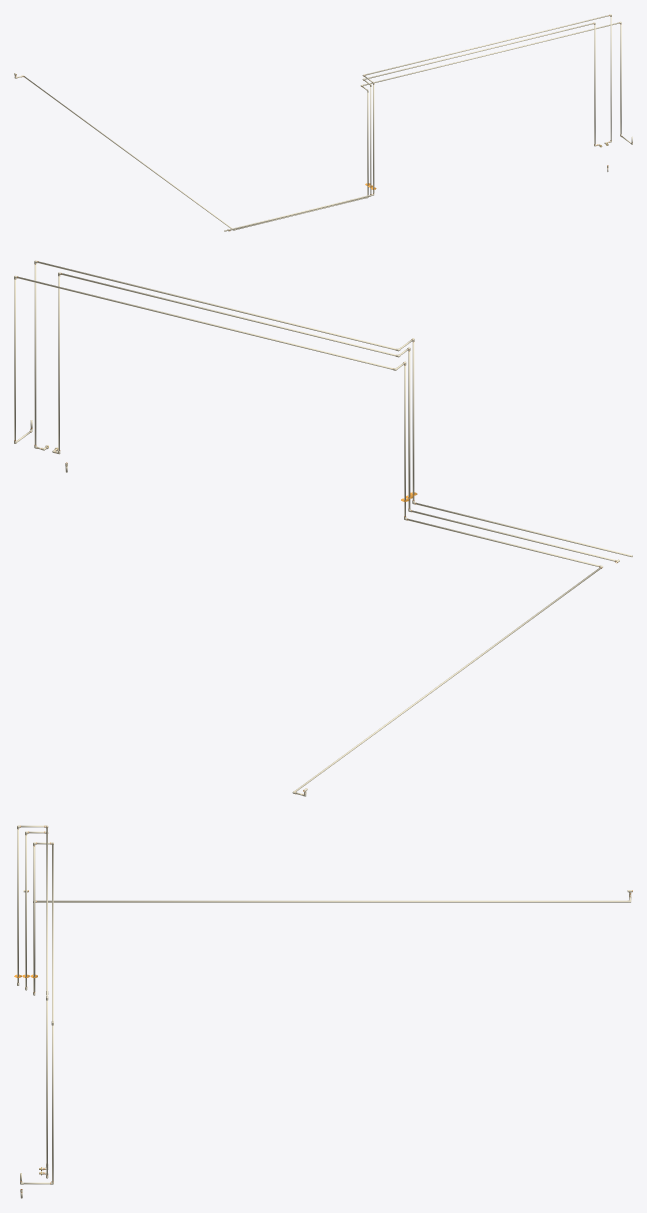
File: pipes_supply__water_heater-garage_tankless+garage_tankless_noncondensing_and_plumbing-cpvc.glb
3 renders of one model, top to bottom at view 1: azimuth 30°, elevation 25°; view 2: azimuth 150°, elevation 25°; view 3: azimuth 270°, elevation 25°, orthographic. The views are drawn at different scales.
Visible parts, largest first — view 1: pipe_supply_recirc_return, pipe_supply_cold_wh_tankless, pipe_supply_hot_wh_tankless; view 2: pipe_supply_recirc_return, pipe_supply_cold_wh_tankless, pipe_supply_hot_wh_tankless; view 3: pipe_supply_recirc_return, pipe_supply_cold_wh_tankless.
Boxes of the visible parts, x1=… form: pipe_supply_recirc_return: x1=17, y1=22, x2=632, y2=229; pipe_supply_cold_wh_tankless: x1=224, y1=15, x2=611, y2=231; pipe_supply_hot_wh_tankless: x1=231, y1=23, x2=597, y2=230; pipe_supply_recirc_return: x1=14, y1=276, x2=601, y2=795; pipe_supply_cold_wh_tankless: x1=34, y1=261, x2=632, y2=557; pipe_supply_hot_wh_tankless: x1=55, y1=273, x2=614, y2=561; pipe_supply_recirc_return: x1=20, y1=842, x2=631, y2=1184; pipe_supply_cold_wh_tankless: x1=17, y1=825, x2=47, y2=1175.
Size of the model in its own units: 8.32 by 2.87 by 7.69.
